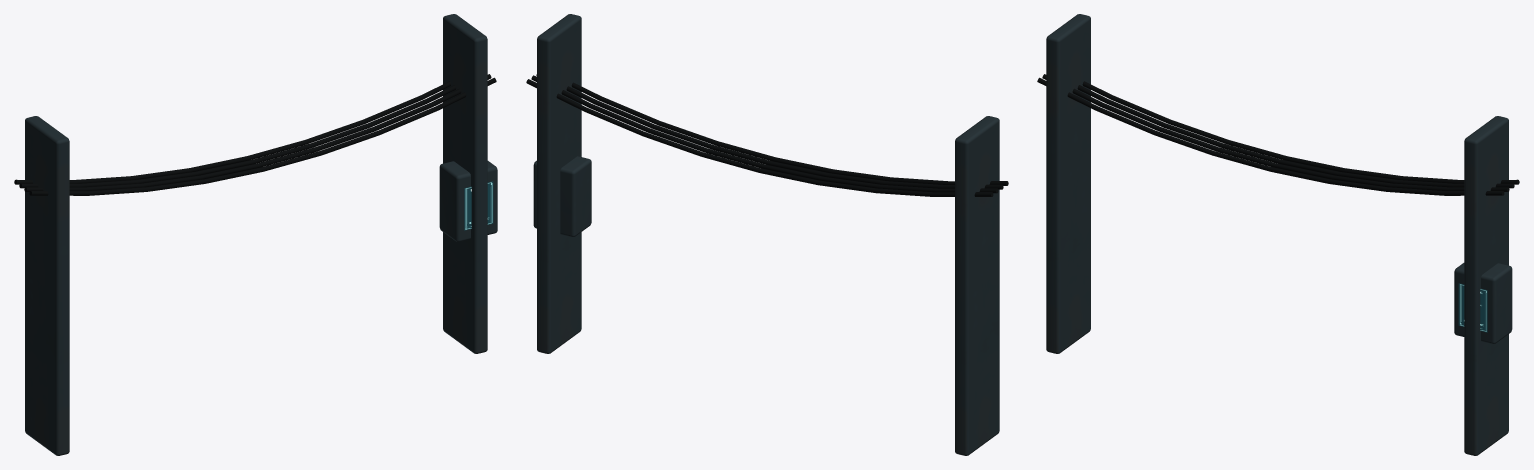
The model's file is NC_CableSpan_LOD0.fbx.
The picture shows the model from 3 angles, left to right: view 1: azimuth 30°, elevation 25°; view 2: azimuth 150°, elevation 25°; view 3: azimuth 330°, elevation 25°; orthographic projection.
Parts seen in each view (by area): view 1: NC_CableSpan_LOD0; view 2: NC_CableSpan_LOD0; view 3: NC_CableSpan_LOD0.
Part boxes in pixels (bbox=[...]): NC_CableSpan_LOD0: bbox=[14, 14, 497, 455]; NC_CableSpan_LOD0: bbox=[526, 14, 1008, 455]; NC_CableSpan_LOD0: bbox=[1037, 14, 1519, 455].
Bounding box in the file's own units: 401 × 260 × 50.
